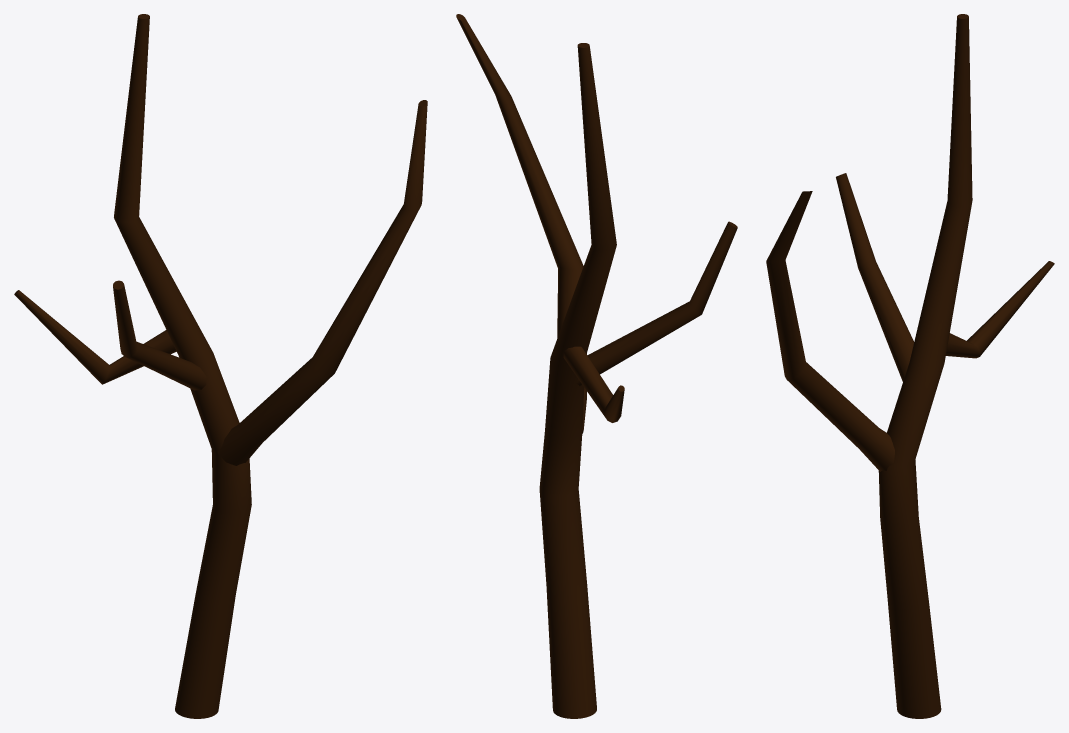
The model's file is Tree2.fbx.
3 renders of one model, left to right at view 1: azimuth 30°, elevation 25°; view 2: azimuth 150°, elevation 25°; view 3: azimuth 270°, elevation 25°, orthographic.
Visible parts, largest first — view 1: Cylinder.001; view 2: Cylinder.001; view 3: Cylinder.001.
Part boxes in pixels (x1=…): Cylinder.001: x1=14, y1=14, x2=427, y2=718; Cylinder.001: x1=456, y1=14, x2=737, y2=718; Cylinder.001: x1=766, y1=14, x2=1054, y2=718.
Size of the model in its own units: 1530 by 3382 by 1304.
